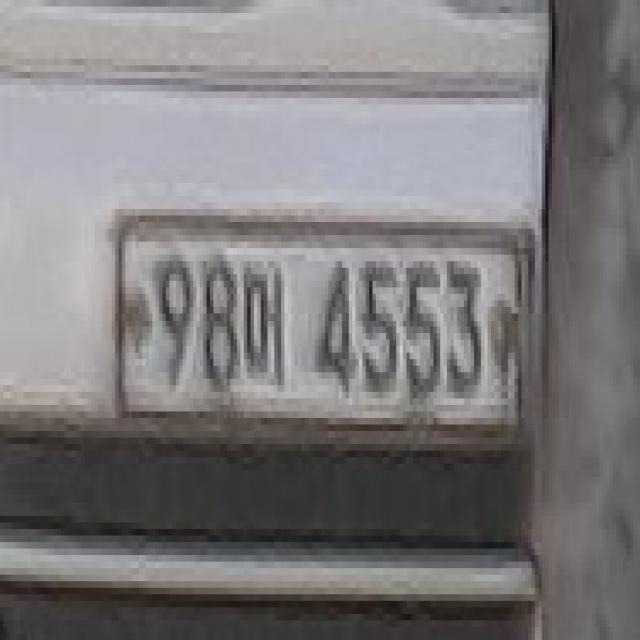3: (448, 250, 486, 406)
4: (316, 254, 358, 397)
5: (359, 248, 402, 398), (406, 248, 444, 400)
8: (198, 247, 241, 392)
9: (156, 248, 194, 390)
license_plate: (111, 208, 537, 454)
meo: (244, 249, 292, 402)
